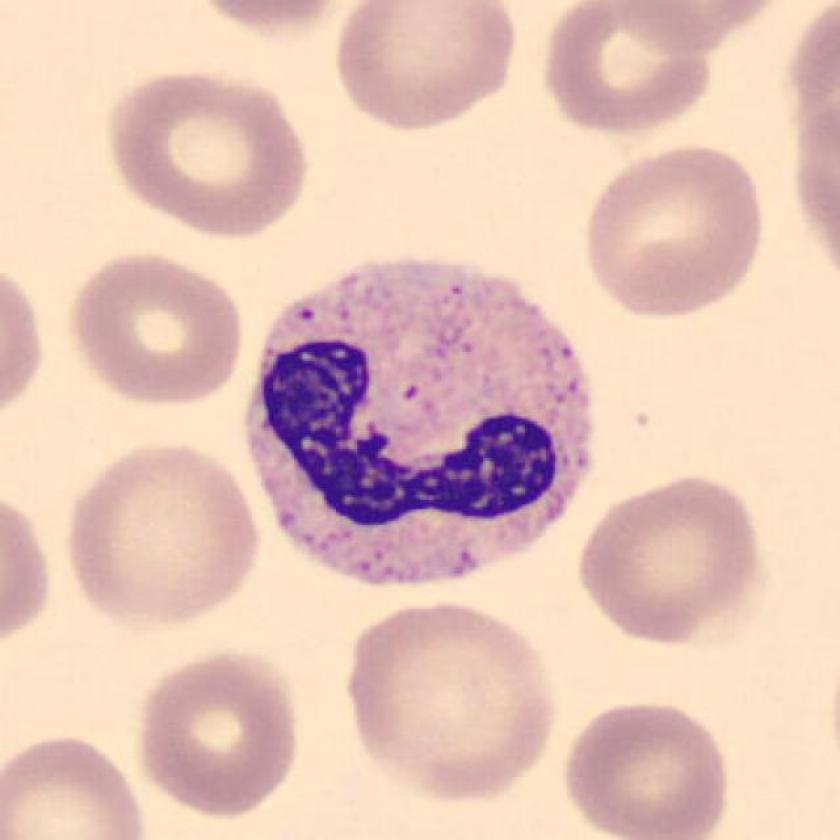neutrophil: (248, 264, 590, 587)
